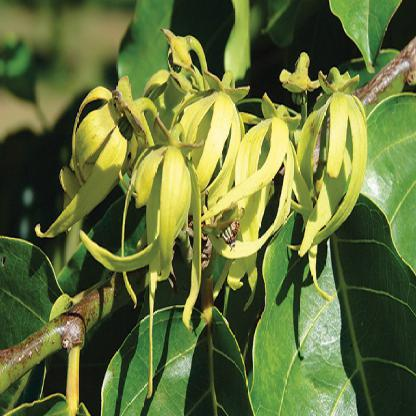Kenanga: (124, 131, 210, 293), (69, 95, 150, 235), (238, 91, 298, 245), (304, 92, 372, 222)
